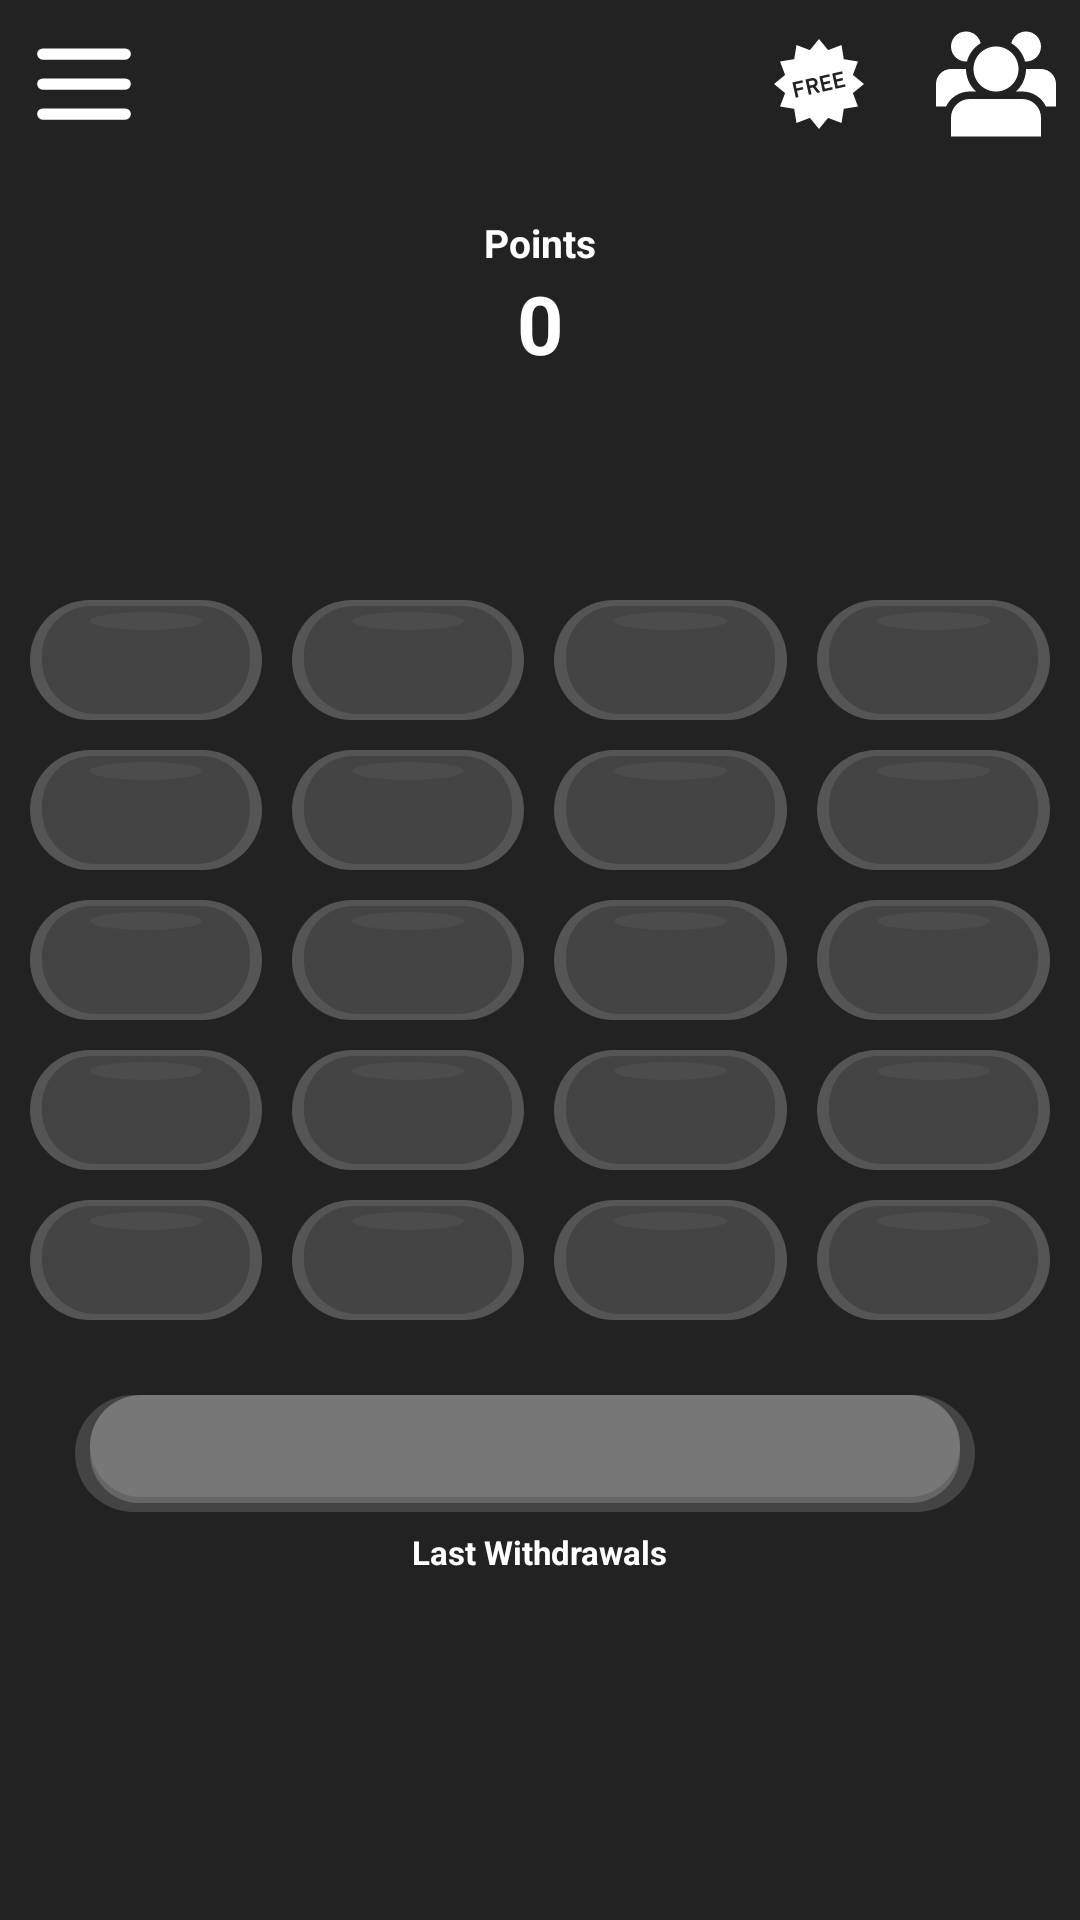

Locate icon controls on the screen. Image size 1080w x 1920h, boxes as (x1, y1, x2, y2).
list: (37, 48, 131, 120)
